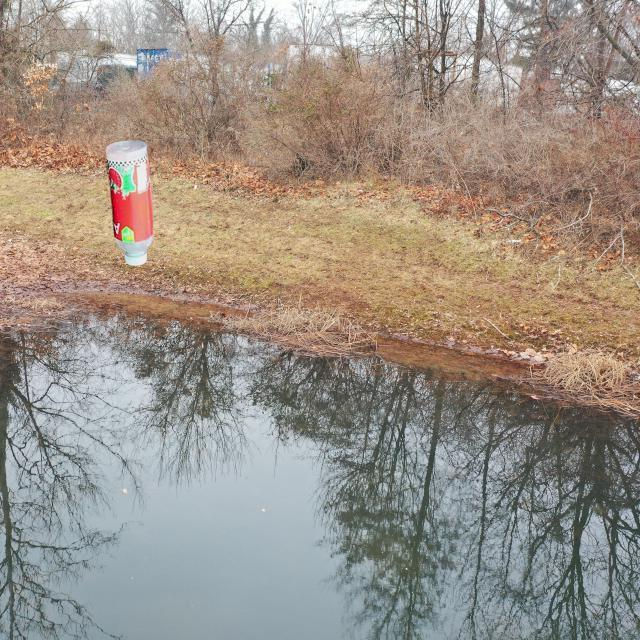Plastic: (102, 136, 160, 270)
